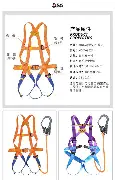safety belt: (4, 114, 57, 178), (19, 23, 58, 104), (62, 114, 108, 178)
